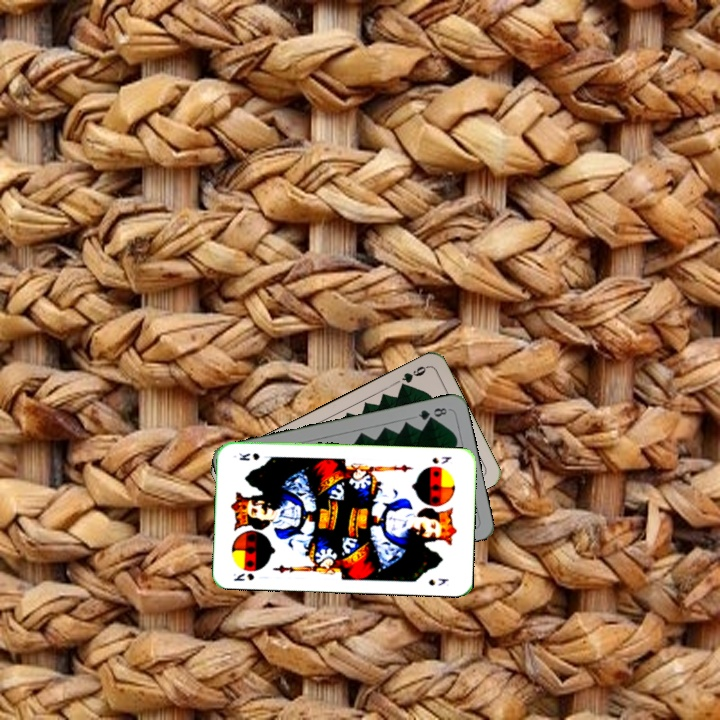G8: (414, 404, 450, 423)
G9: (396, 362, 430, 391)
SK: (229, 569, 256, 583), (428, 452, 454, 466)
